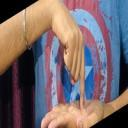hand: (44, 0, 85, 115), (38, 98, 119, 128)
